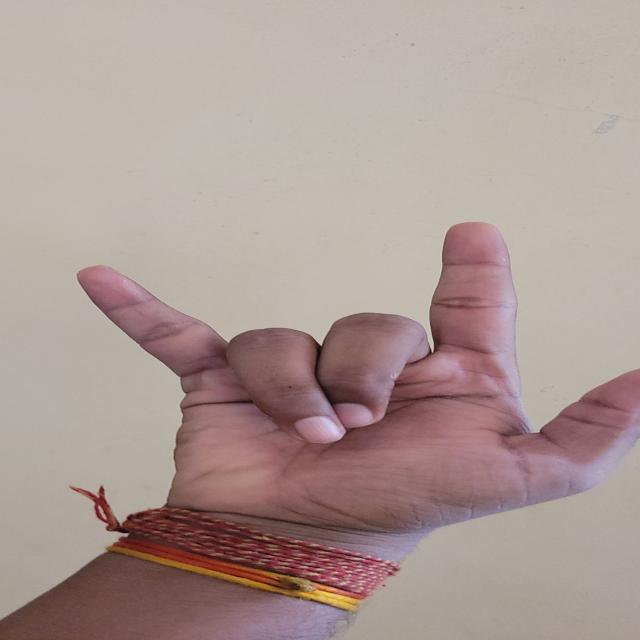i like you: (23, 203, 640, 640)
